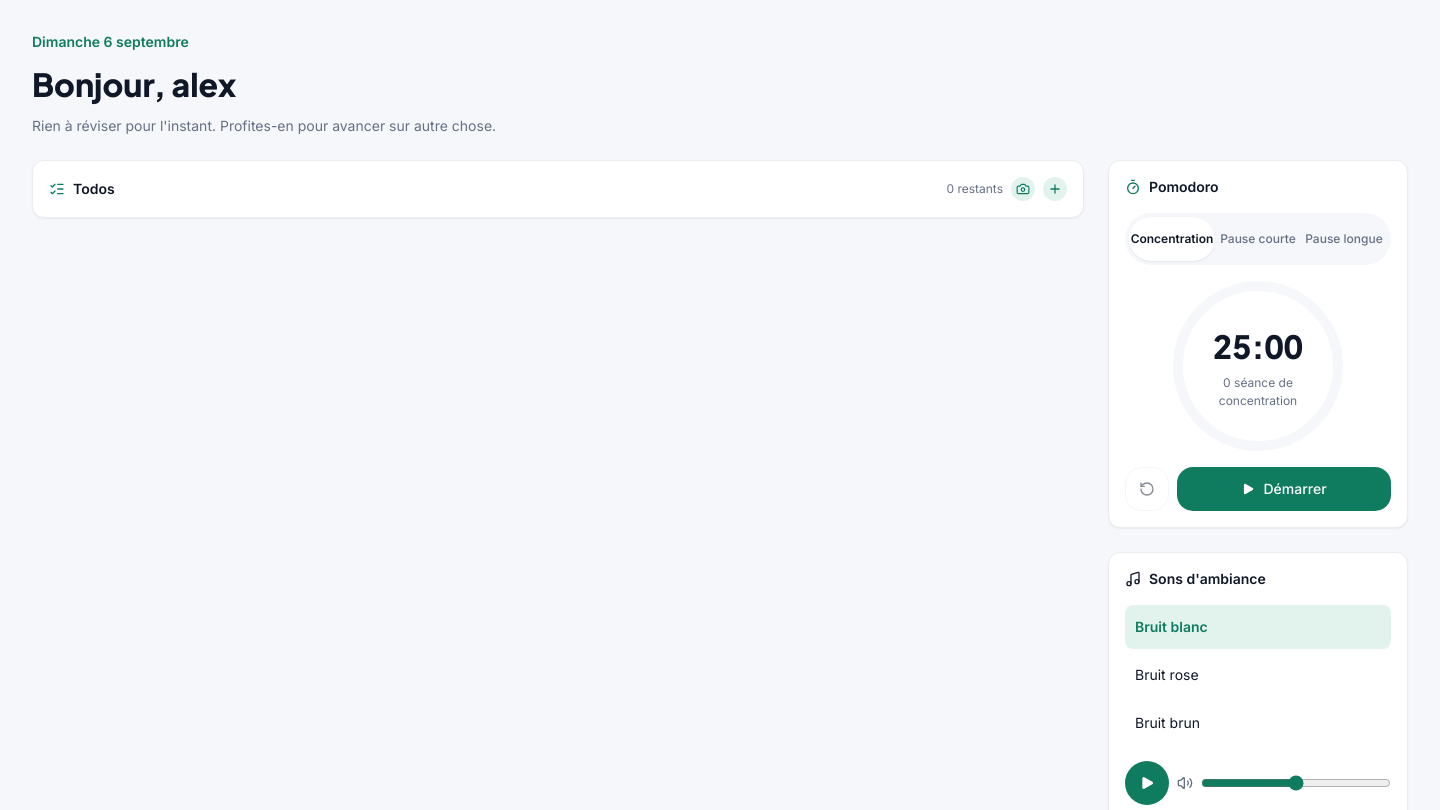
Test case: TodayScreen (Aujourd'hui) › the '+' button reveals the full add-todo form (label, date, course); submitting a bare label posts it with null date and course
This screenshot has width=1440, height=810.
Expected: the text "Rien à réviser pour l'instant" is shown, x1=32 y1=117 x2=496 y2=134
Click the button named "Ajouter un todo" at [1055, 189], box x1=1043 y1=177 x2=1067 y2=201
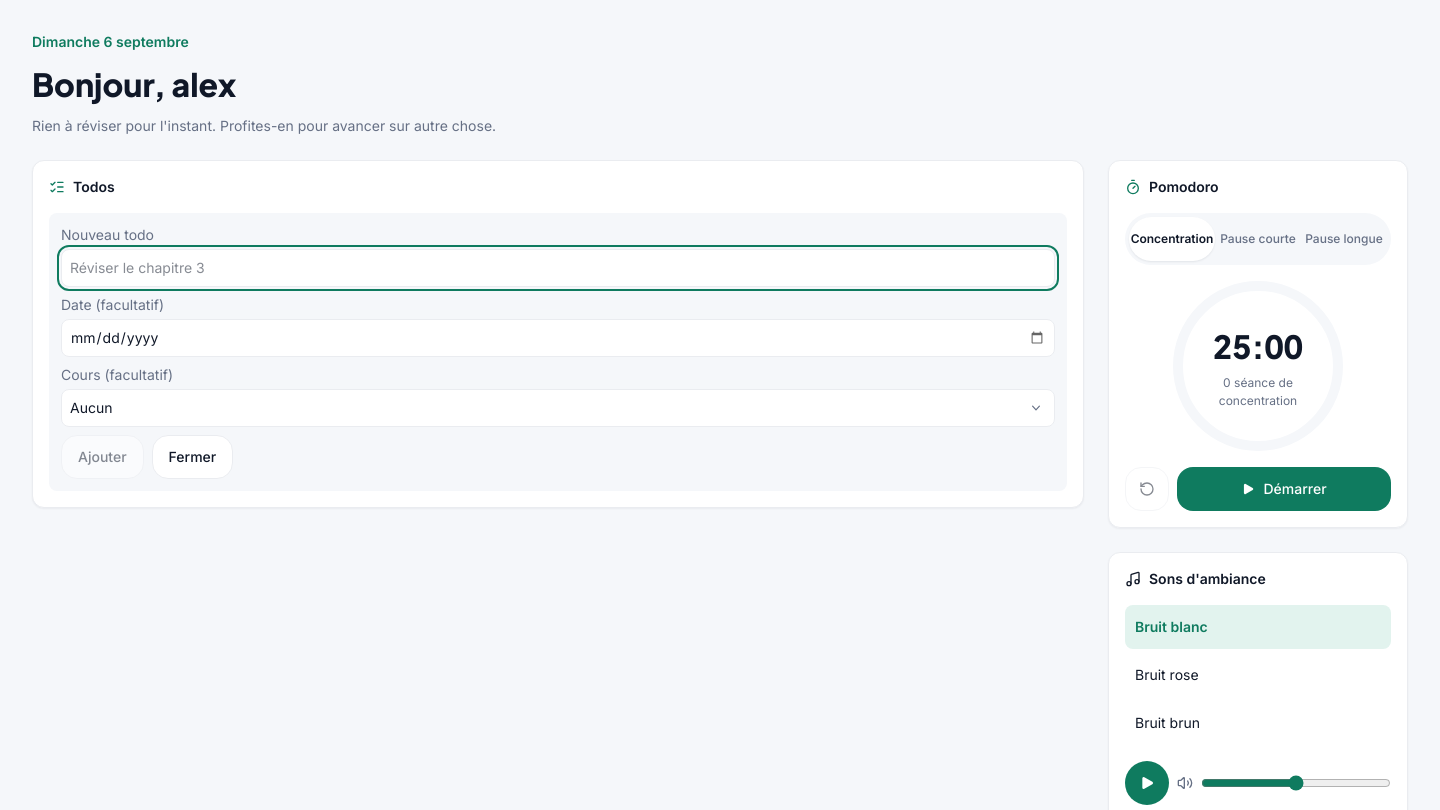
Type "Nouveau todo" into the field labelled "Nouveau todo" at [558, 268], box x1=61 y1=249 x2=1055 y2=287
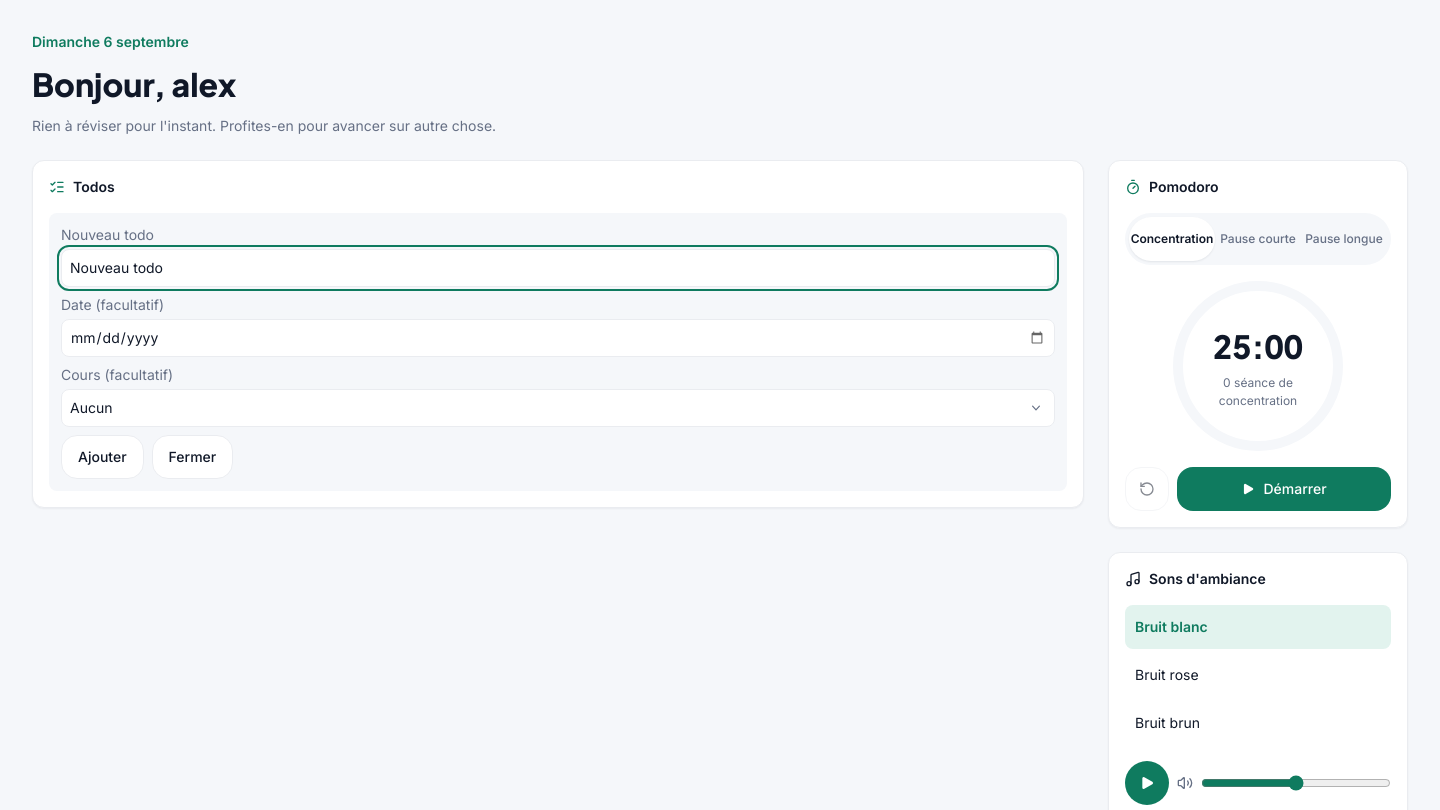
Click the button "Ajouter" at [102, 457], box x1=61 y1=435 x2=144 y2=479
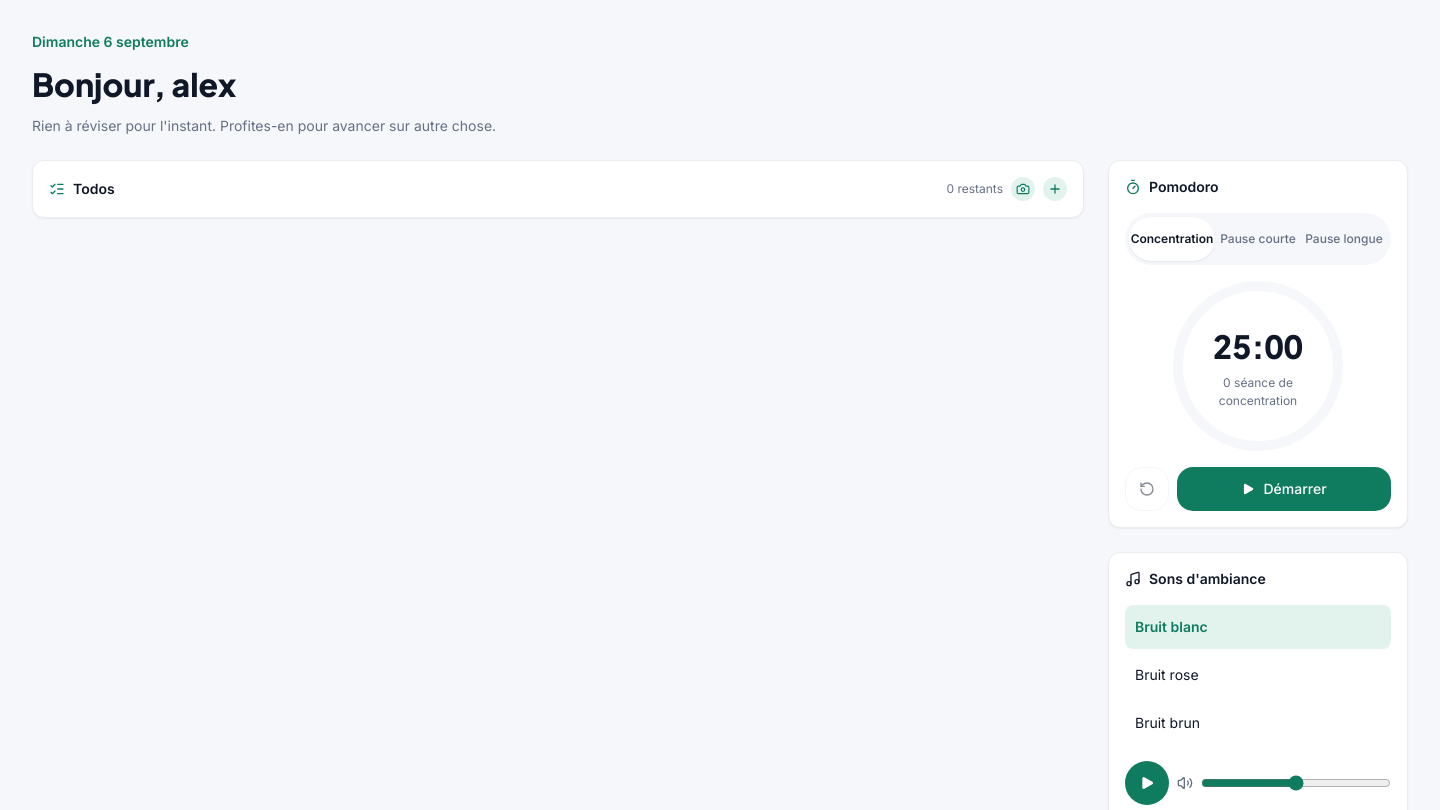
Expected: the button named "Ajouter un todo" is shown, x1=1043 y1=177 x2=1067 y2=201
Expected: the label labelled "Nouveau todo" is gone
